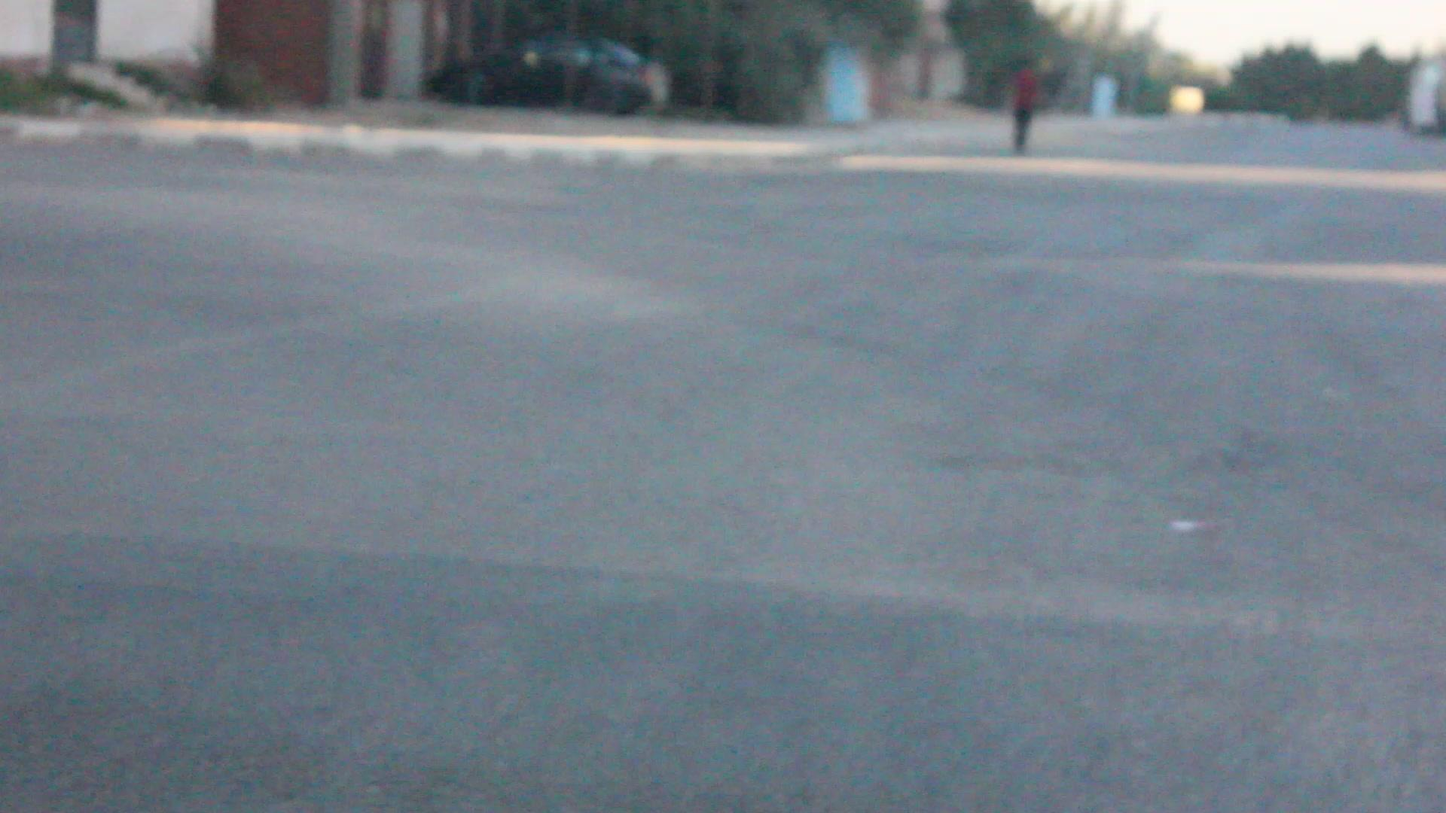Bump: (8, 491, 1446, 813)
